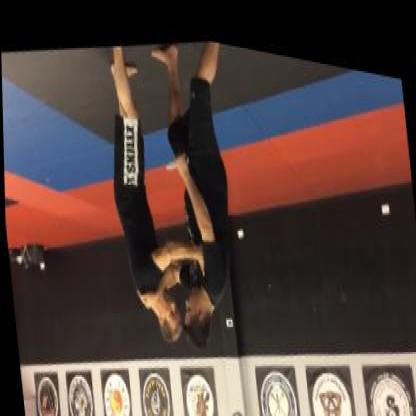knife: (162, 140, 190, 172)
